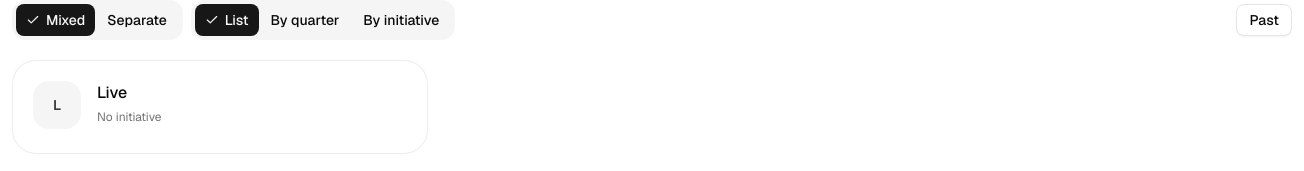
Test: ProjectOverview › says when there are no finished projects
Click the button "Past": (1264, 20) 1236,4 -> 1292,36
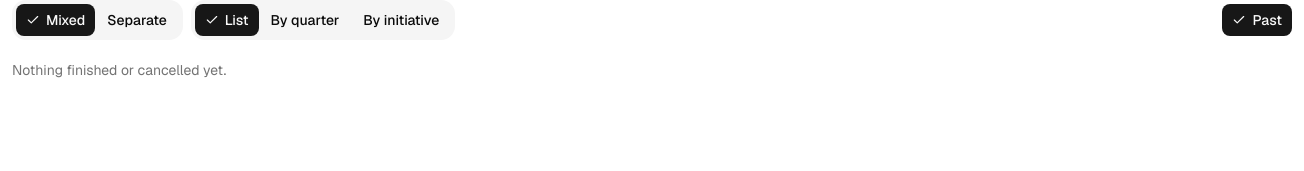
Expected: the text "Nothing finished or cancelled yet." is shown, 12,61 -> 226,79
